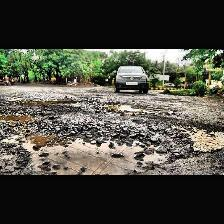pothole: (0, 122, 196, 174), (102, 100, 154, 116), (15, 99, 80, 107), (1, 112, 42, 122)
